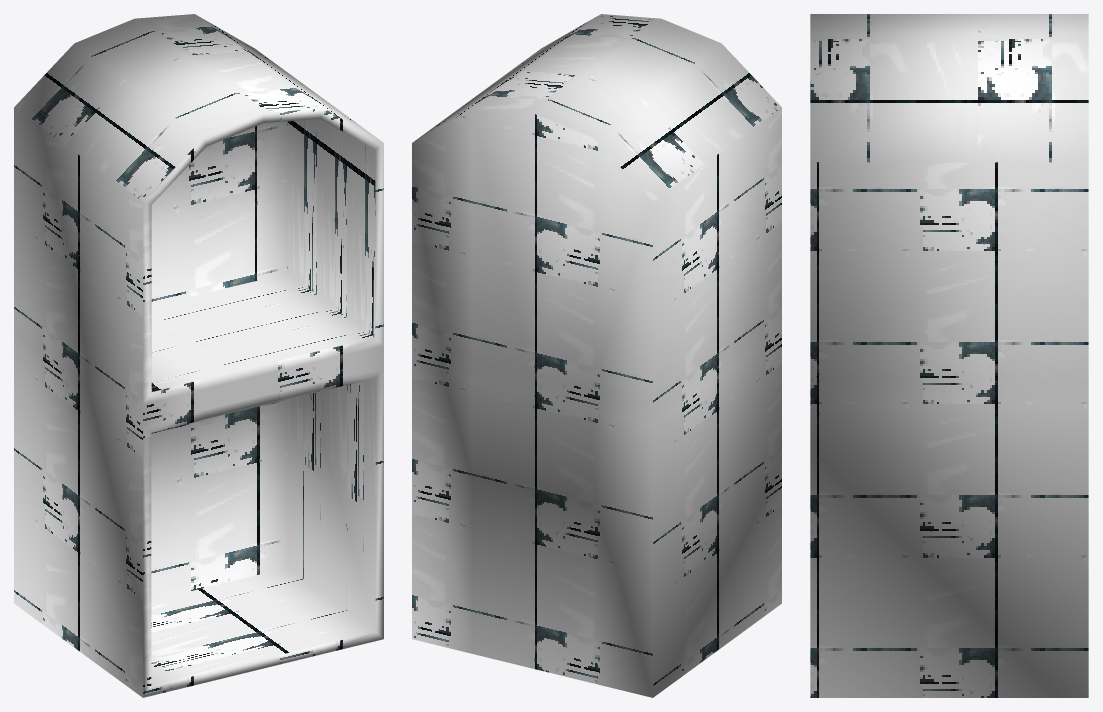
Rendered from FirdgeBody.FBX.
The picture shows the model from 3 angles, left to right: view 1: azimuth 30°, elevation 25°; view 2: azimuth 150°, elevation 25°; view 3: azimuth 270°, elevation 25°; orthographic projection. The views are drawn at different scales.
Parts seen in each view (by area): view 1: Fridge; view 2: Fridge; view 3: Fridge.
Boxes of the visible parts, x1=… form: Fridge: x1=14, y1=14, x2=383, y2=697; Fridge: x1=412, y1=14, x2=781, y2=697; Fridge: x1=810, y1=14, x2=1088, y2=697.
Bounding box in the file's own units: 1.6 × 1.49 × 3.53.
Materials: 1 (1 with a texture image).
